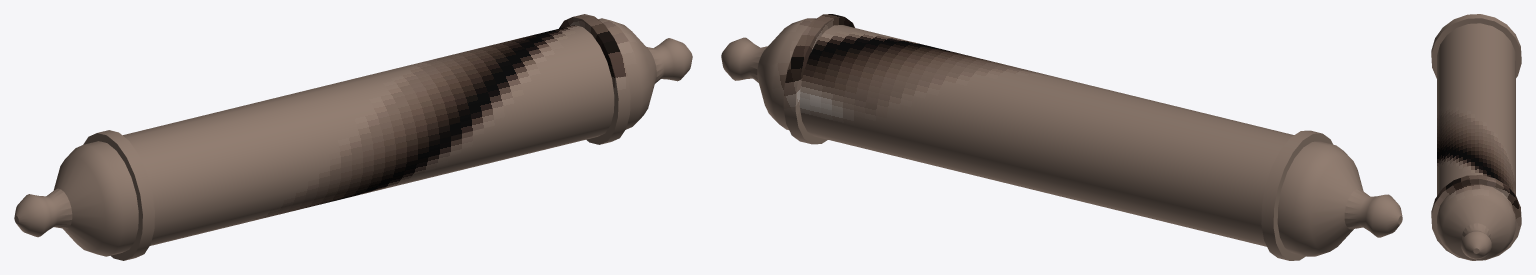
File: Scroll.fbx
3 renders of one model, left to right at view 1: azimuth 30°, elevation 25°; view 2: azimuth 150°, elevation 25°; view 3: azimuth 270°, elevation 25°, orthographic. The views are drawn at different scales.
Parts seen in each view (by area): view 1: pCylinder31; view 2: pCylinder31; view 3: pCylinder31.
Part boxes in pixels (x1,y1,x2,y2): pCylinder31: [14, 14, 692, 260]; pCylinder31: [721, 14, 1402, 260]; pCylinder31: [1431, 14, 1521, 260].
Size of the model in its own units: 96.48 by 16.16 by 16.16.
